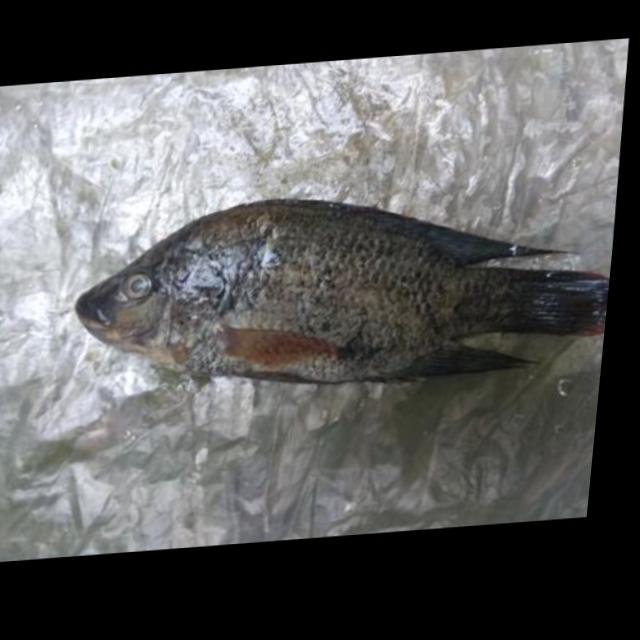Tilapia: (62, 168, 620, 411)
